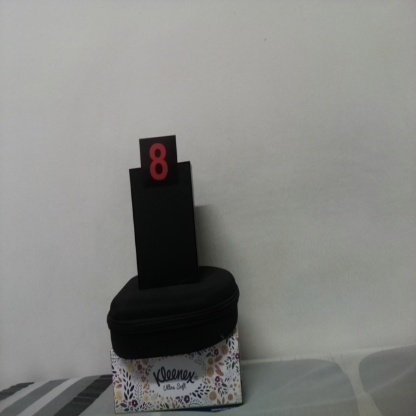id_8: (139, 138, 177, 193)
